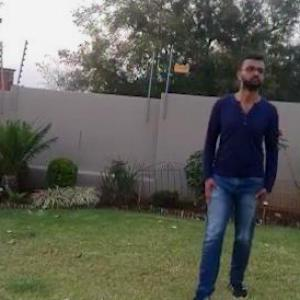follow: (189, 50, 277, 294)
